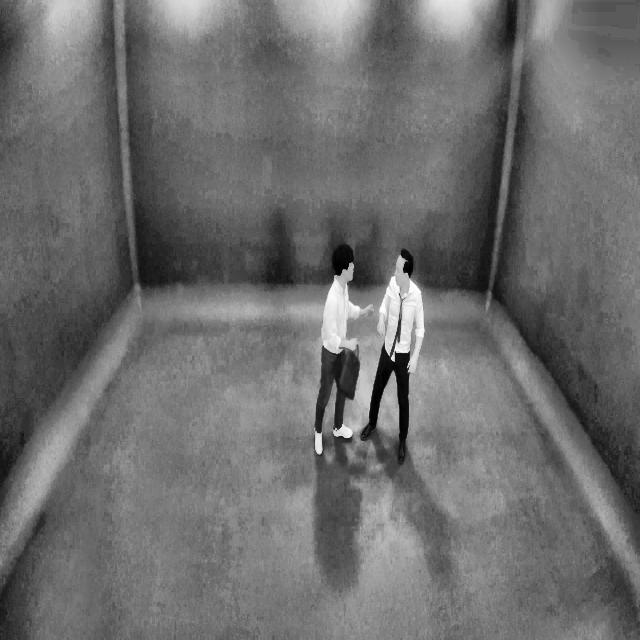assult: (307, 236, 431, 484)
